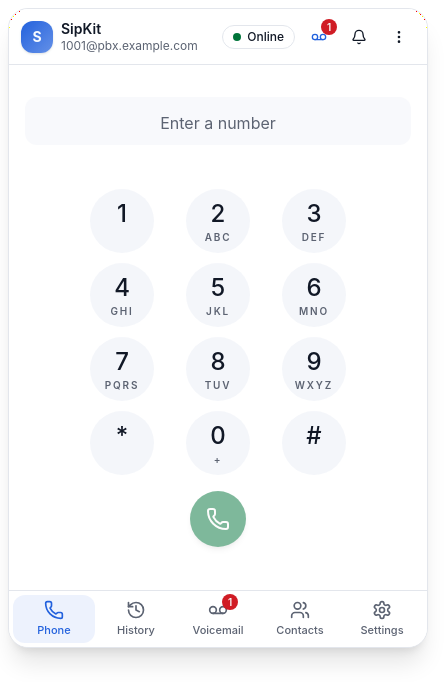
Scenario: VoicemailPanel › lists messages newest first with a new badge on the tab
This screenshot has width=445, height=682.
Click the tab "1 Voicemail" at (218, 619), box [177,595,259,643]
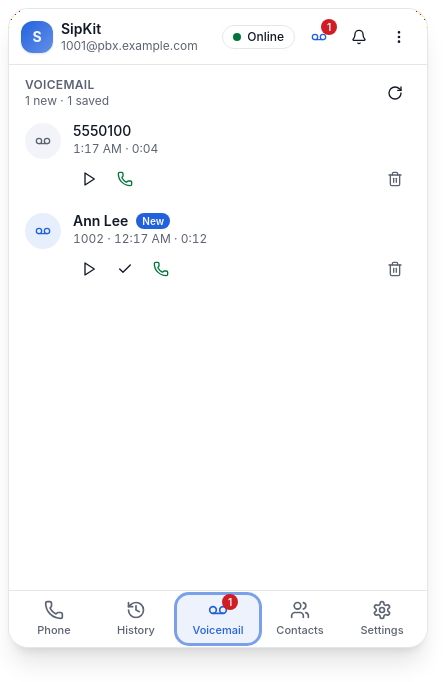
expect the number of list items with test id "voicemail-item" is 2: met, box [17,113,419,203]; [17,203,419,293]
expect the list item with test id "voicemail-item" shows "0:12": met, box [181,231,207,246]
